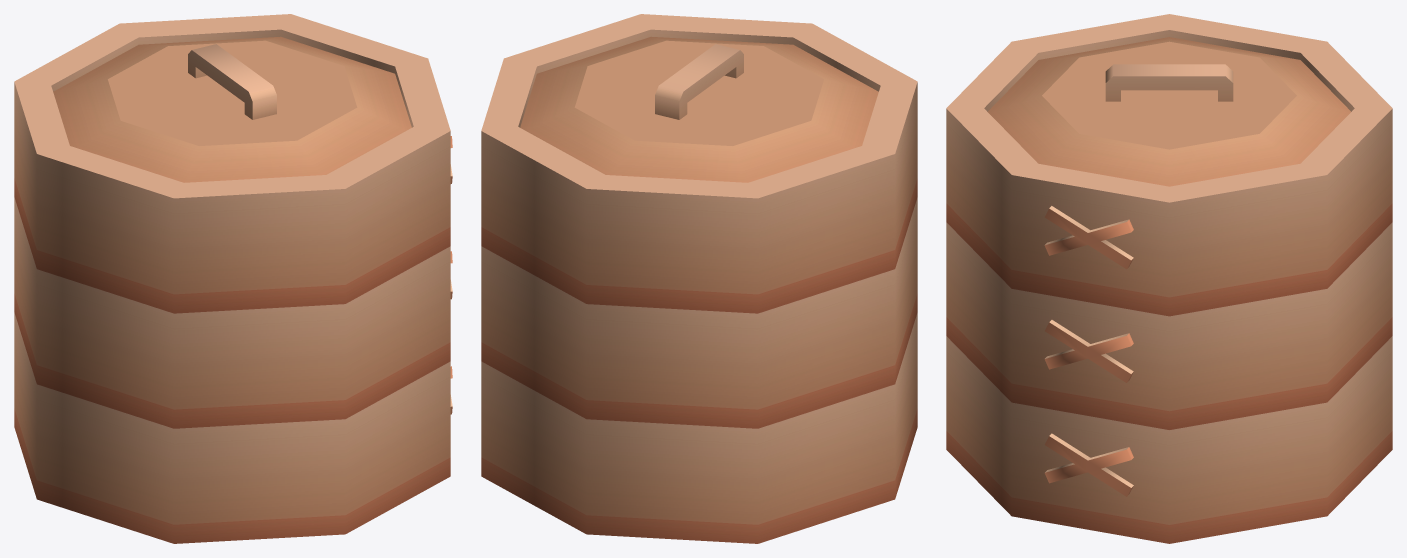
The model's file is steamer.glb.
The picture shows the model from 3 angles, left to right: view 1: azimuth 30°, elevation 25°; view 2: azimuth 150°, elevation 25°; view 3: azimuth 270°, elevation 25°; orthographic projection.
Parts seen in each view (by area): view 1: layer (×3), lid; view 2: layer (×3), lid; view 3: layer (×3), lid.
Boxes of the visible parts, left/top/right/bottom form: layer (×3): left=14, top=14, right=452, bottom=543; lid: left=53, top=36, right=411, bottom=182; layer (×3): left=481, top=14, right=917, bottom=543; lid: left=520, top=36, right=878, bottom=182; layer (×3): left=946, top=14, right=1392, bottom=543; lid: left=988, top=37, right=1350, bottom=186.
Bounding box in the file's own units: 0.64 × 0.6 × 0.64.
Materials: 1 (1 with a texture image).
